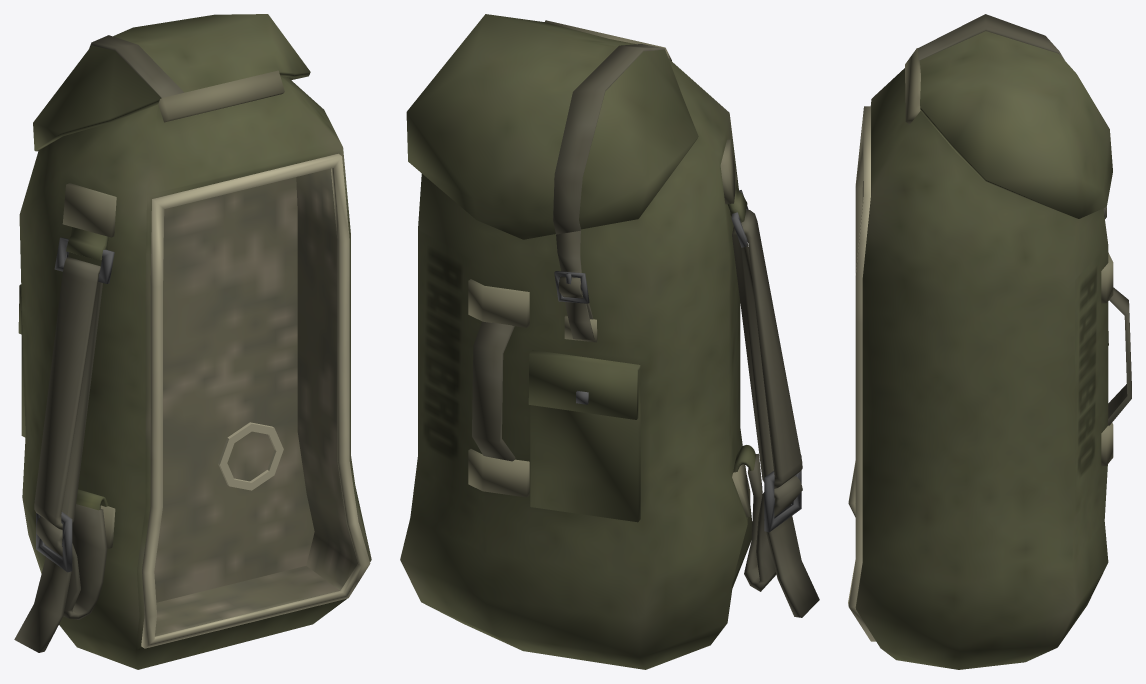
File: Bag_Rambro.fbx
The picture shows the model from 3 angles, left to right: view 1: azimuth 30°, elevation 25°; view 2: azimuth 150°, elevation 25°; view 3: azimuth 270°, elevation 25°; orthographic projection. The views are drawn at different scales.
Parts seen in each view (by area): view 1: Bag_Rambro, Slot; view 2: Bag_Rambro; view 3: Bag_Rambro.
Boxes of the visible parts, box(x1,y1,x2,y2) form: Bag_Rambro: box(14, 14, 371, 669); Slot: box(218, 422, 283, 490); Bag_Rambro: box(400, 14, 819, 669); Bag_Rambro: box(848, 14, 1131, 669).
Bounding box in the file's own units: 64.34 × 102 × 45.61.
